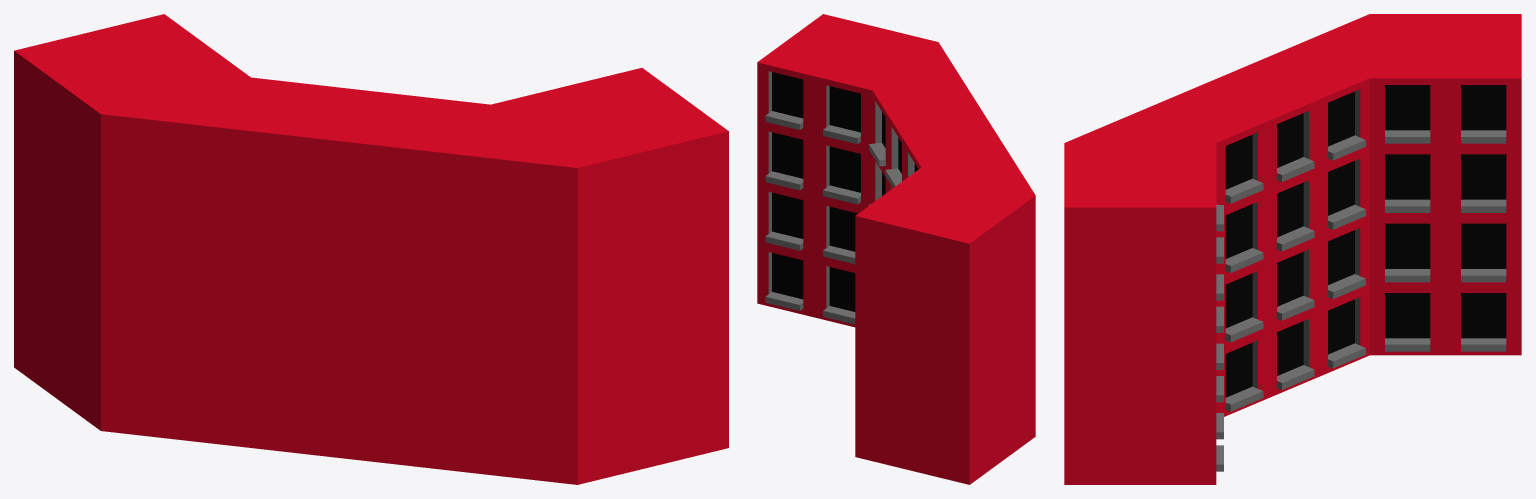
Rendered from houseCorner.fbx.
The picture shows the model from 3 angles, left to right: view 1: azimuth 30°, elevation 25°; view 2: azimuth 150°, elevation 25°; view 3: azimuth 270°, elevation 25°; orthographic projection. The views are drawn at different scales.
Parts seen in each view (by area): view 1: houseCorner; view 2: houseCorner; view 3: houseCorner.
Boxes of the visible parts, x1,y1,x2,y2 form: houseCorner: (14,14,728,484); houseCorner: (757,14,1035,484); houseCorner: (1064,14,1521,484).
Bounding box in the file's own units: 59.93 × 40 × 59.78.
